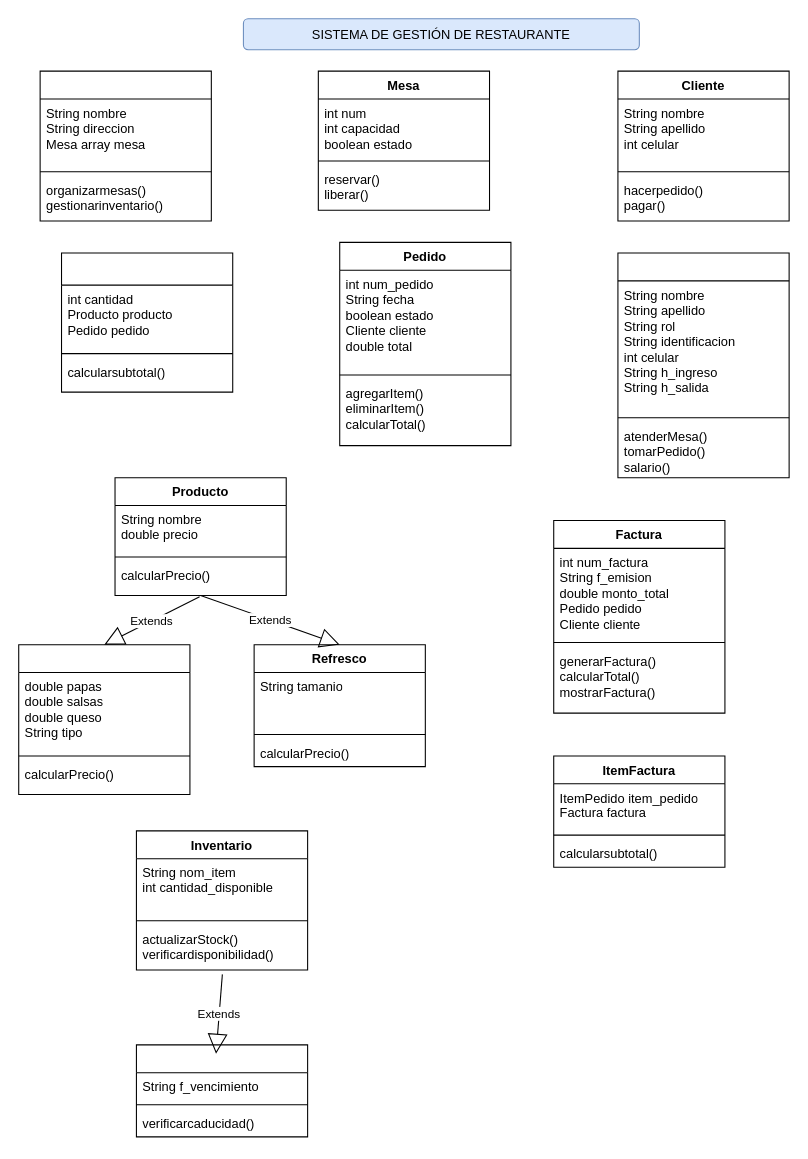
This 808x1159 diagram has some shape labels left out. The shapes that lost their labels are listed below. From the top down, each one's box as (x1, y1, x2, y2) in pixels, then its label:
(39, 70, 211, 221): Restaurante
(60, 252, 233, 392): ItemPedido
(617, 252, 789, 478): Empleado
(18, 644, 190, 794): Hamburguesa
(135, 1044, 308, 1137): Alimento
